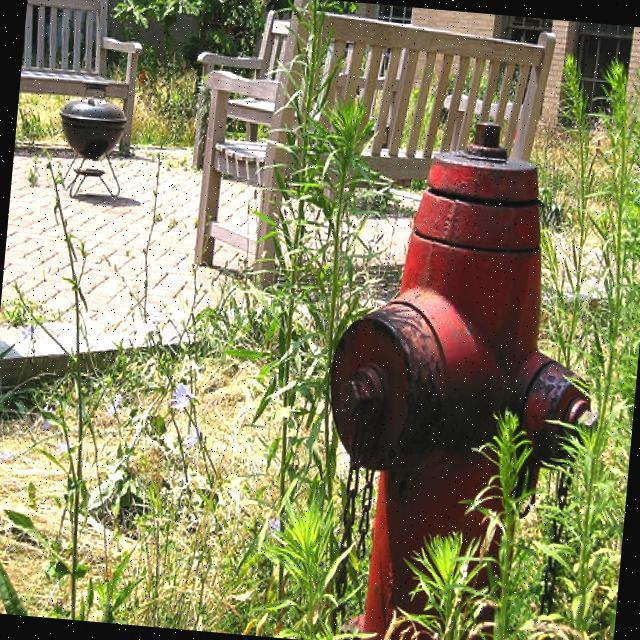fire_hydrant: (309, 99, 608, 640)
